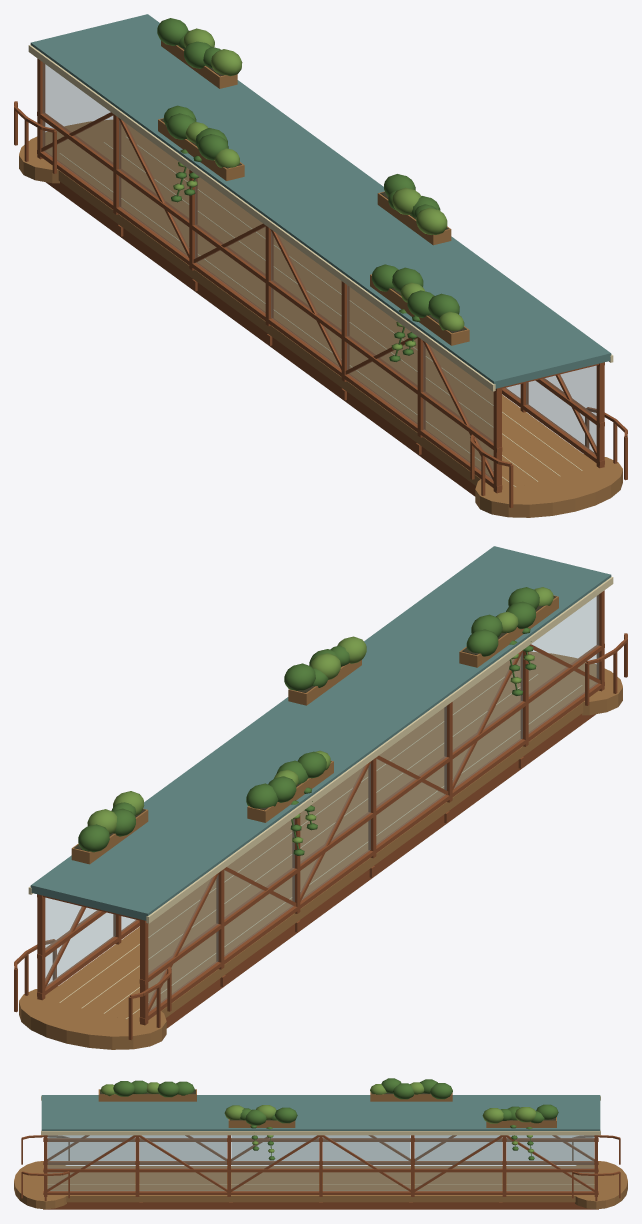
The model's file is skybridge_20.glb.
The picture shows the model from 3 angles, top to bottom: view 1: azimuth 30°, elevation 25°; view 2: azimuth 150°, elevation 25°; view 3: azimuth 270°, elevation 25°; orthographic projection. The views are drawn at different scales.
Visible parts, largest first — view 1: skybridge; view 2: skybridge; view 3: skybridge.
Part boxes in pixels (box(x1,y1,x2,y2)): skybridge: box(14, 14, 627, 517); skybridge: box(14, 546, 627, 1049); skybridge: box(14, 1078, 627, 1209).
Bounding box in the file's own units: 3.5 × 4.06 × 22.3.
